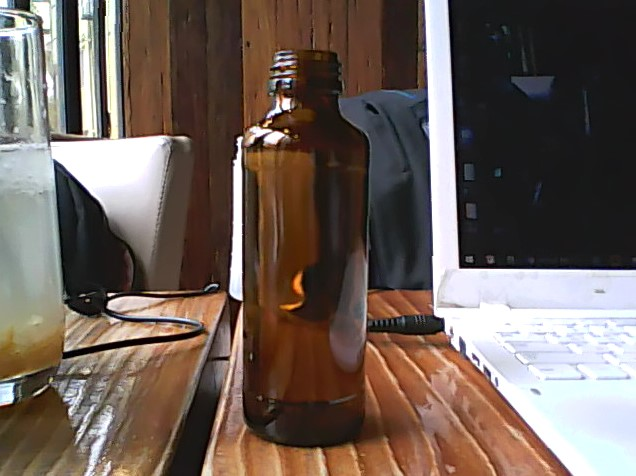Glass: (233, 45, 374, 446)
